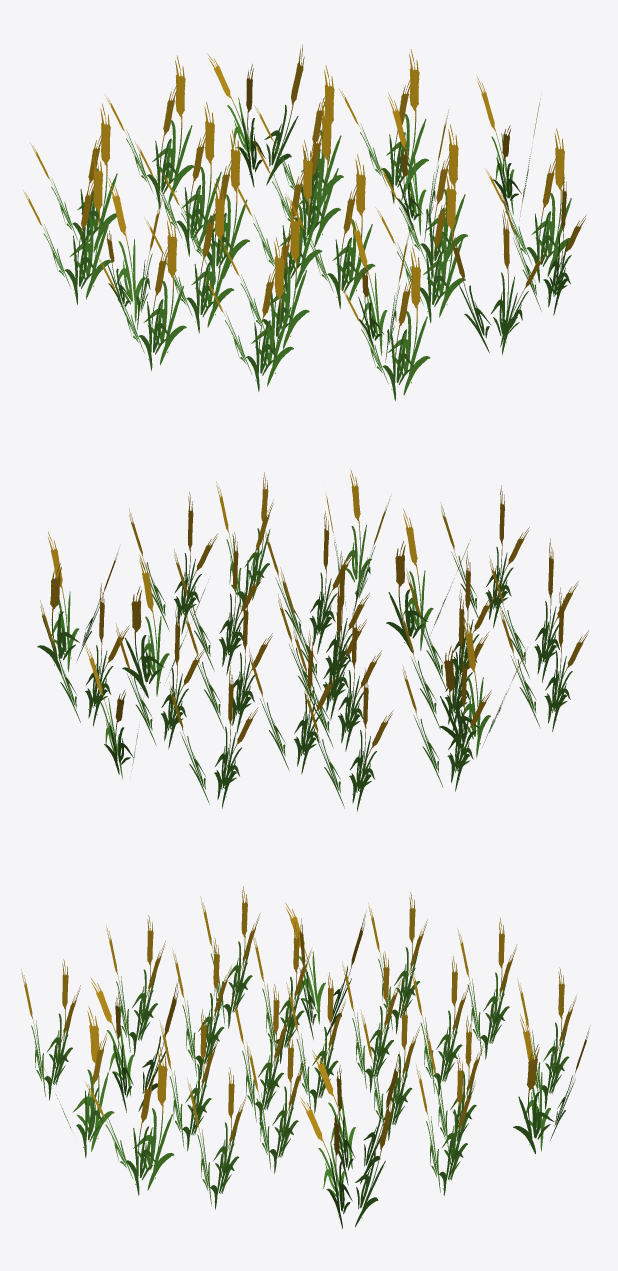
The model's file is Grass01.FBX.
3 renders of one model, top to bottom at view 1: azimuth 30°, elevation 25°; view 2: azimuth 150°, elevation 25°; view 3: azimuth 270°, elevation 25°, orthographic. The views are drawn at different scales.
Visible parts, largest first — view 1: Grass01; view 2: Grass01; view 3: Grass01.
Boxes of the visible parts, x1=… form: Grass01: x1=23, y1=44, x2=586, y2=401; Grass01: x1=37, y1=469, x2=588, y2=811; Grass01: x1=21, y1=886, x2=590, y2=1228.
Bounding box in the file's own units: 42.3 × 13.85 × 42.91.
1 material, 1 textured.
